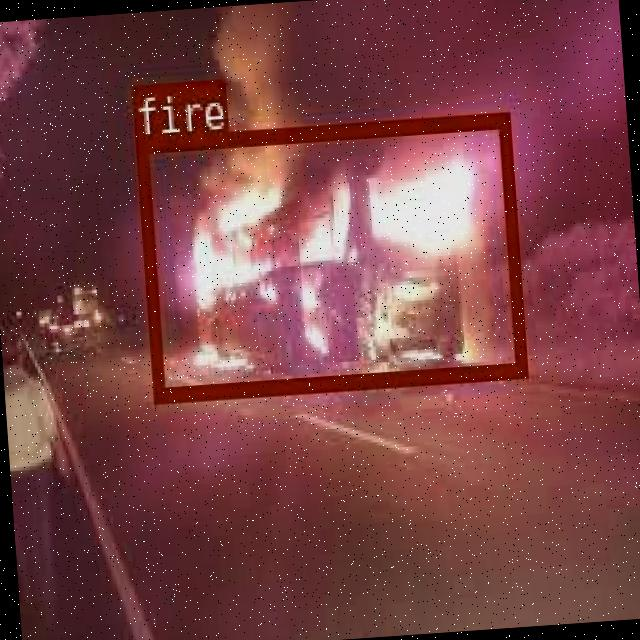fire: (133, 109, 524, 400)
